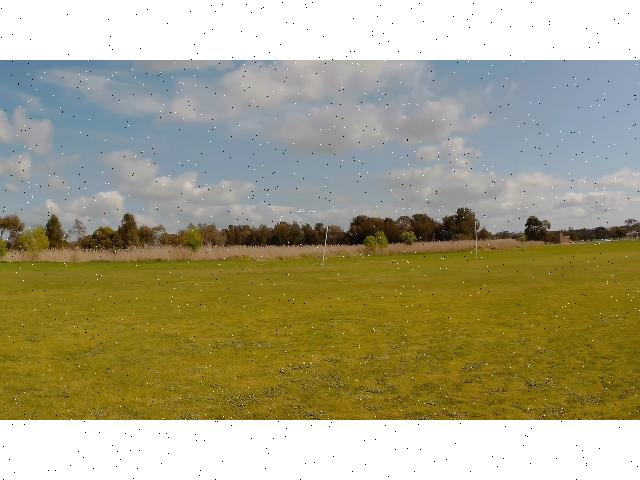Anti-Drone: (296, 211, 316, 214)
